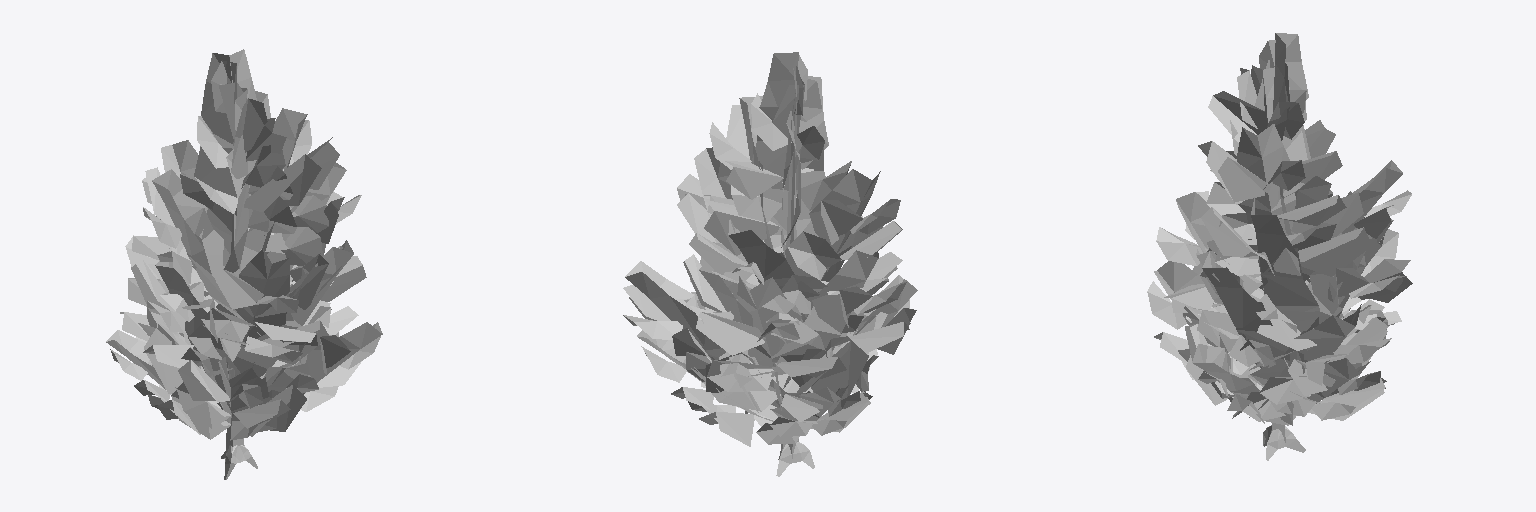
The model's file is SM_PineSmall01.obj.
The picture shows the model from 3 angles: view 1: azimuth 30°, elevation 25°; view 2: azimuth 150°, elevation 25°; view 3: azimuth 270°, elevation 25°; orthographic projection.
Visible parts, largest first — view 1: SM_PineSmall01; view 2: SM_PineSmall01; view 3: SM_PineSmall01.
Boxes of the visible parts, x1,y1,x2,y2 form: SM_PineSmall01: [106, 49, 382, 479]; SM_PineSmall01: [623, 52, 917, 476]; SM_PineSmall01: [1147, 33, 1412, 460].
Size of the model in its own units: 73.4 by 118 by 67.61.